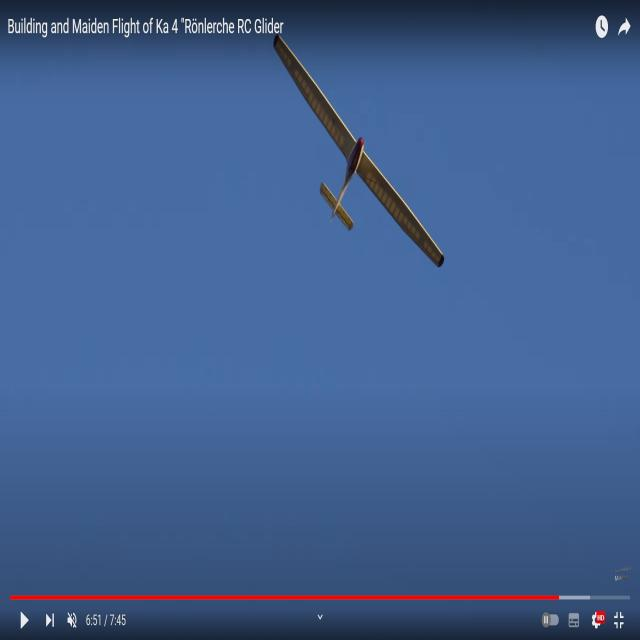iha: (272, 34, 449, 266)
